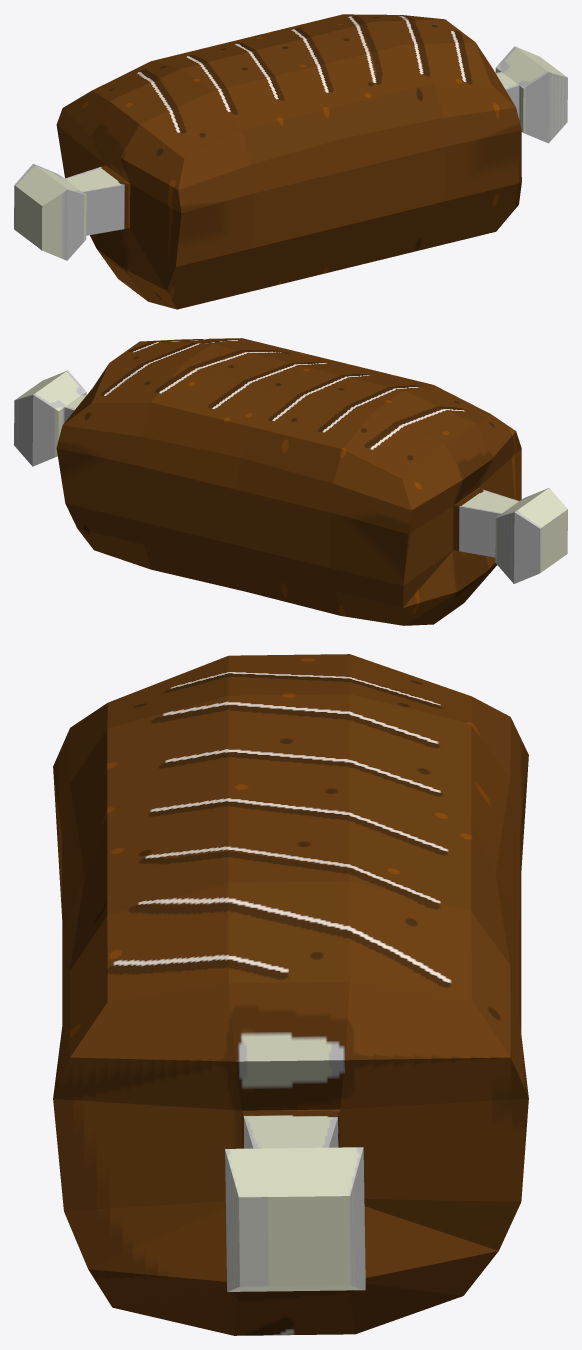
Rendered from Meat01.fbx.
The picture shows the model from 3 angles, top to bottom: view 1: azimuth 30°, elevation 25°; view 2: azimuth 150°, elevation 25°; view 3: azimuth 270°, elevation 25°; orthographic projection. The views are drawn at different scales.
Visible parts, largest first — view 1: Meat01.001; view 2: Meat01.001; view 3: Meat01.001.
Boxes of the visible parts, box(x1,y1,x2,y2) form: Meat01.001: box(14, 14, 567, 309); Meat01.001: box(14, 338, 567, 625); Meat01.001: box(53, 654, 528, 1335).
Size of the model in its own units: 600 by 215 by 235.
1 material, 1 textured.
